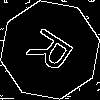R: (25, 25, 83, 80)
